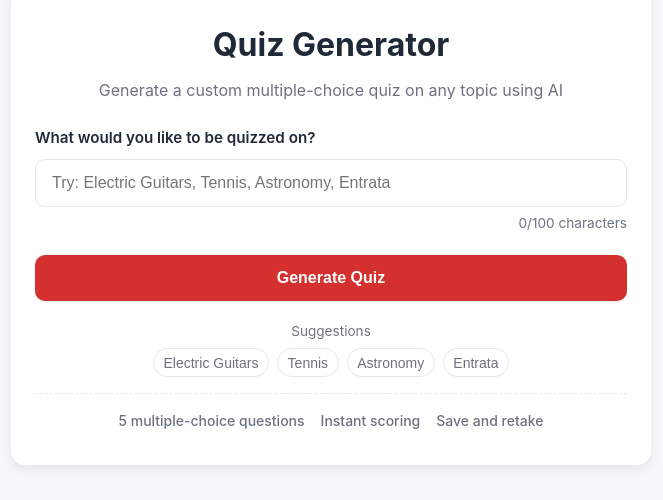
Scenario: QuizGenerator › clears error when user starts typing after error
This screenshot has width=663, height=500.
// Trigger error
Click the button "Generate Quiz": [331, 278] box [35,255,627,301]
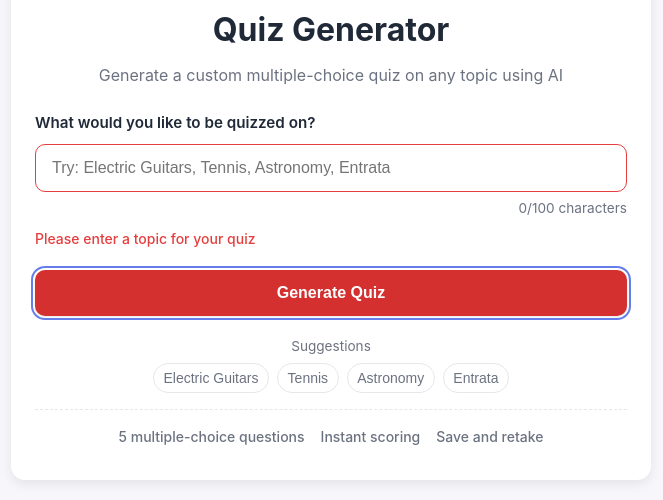
expect the text "Please enter a topic for your quiz" is shown: met, box [35,230,256,247]
// Start typing
In the field labelled "What would you like to be quizzed on?": [331, 168] box [35,144,627,192], type "R"
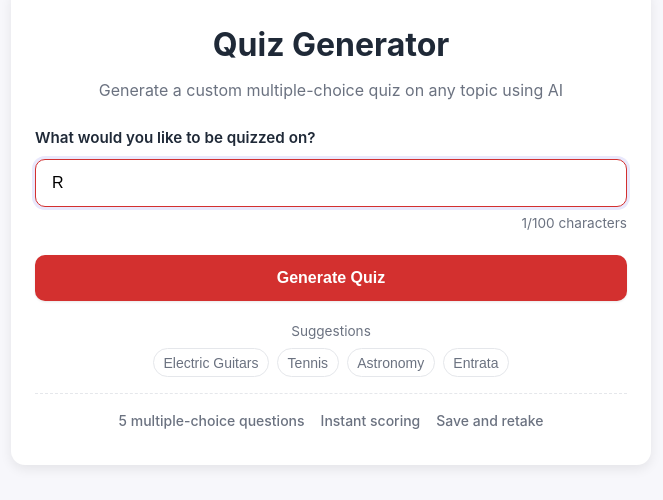
expect the text "Please enter a topic for your quiz" is gone: met
